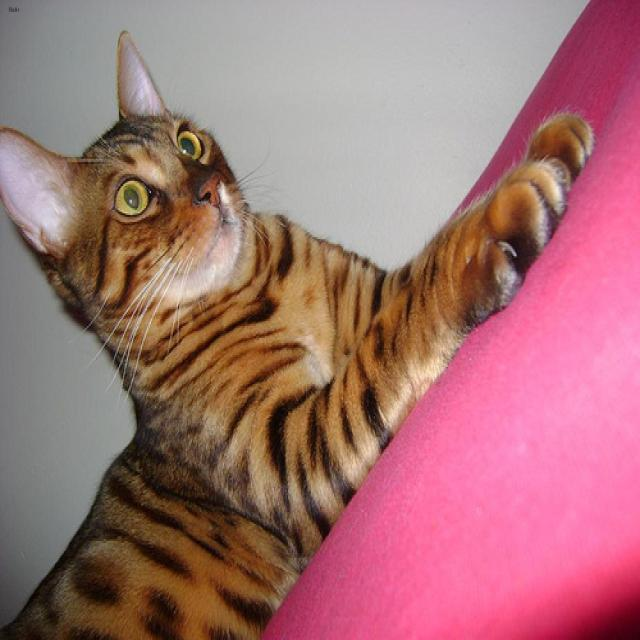Bengal: (1, 23, 254, 316)
